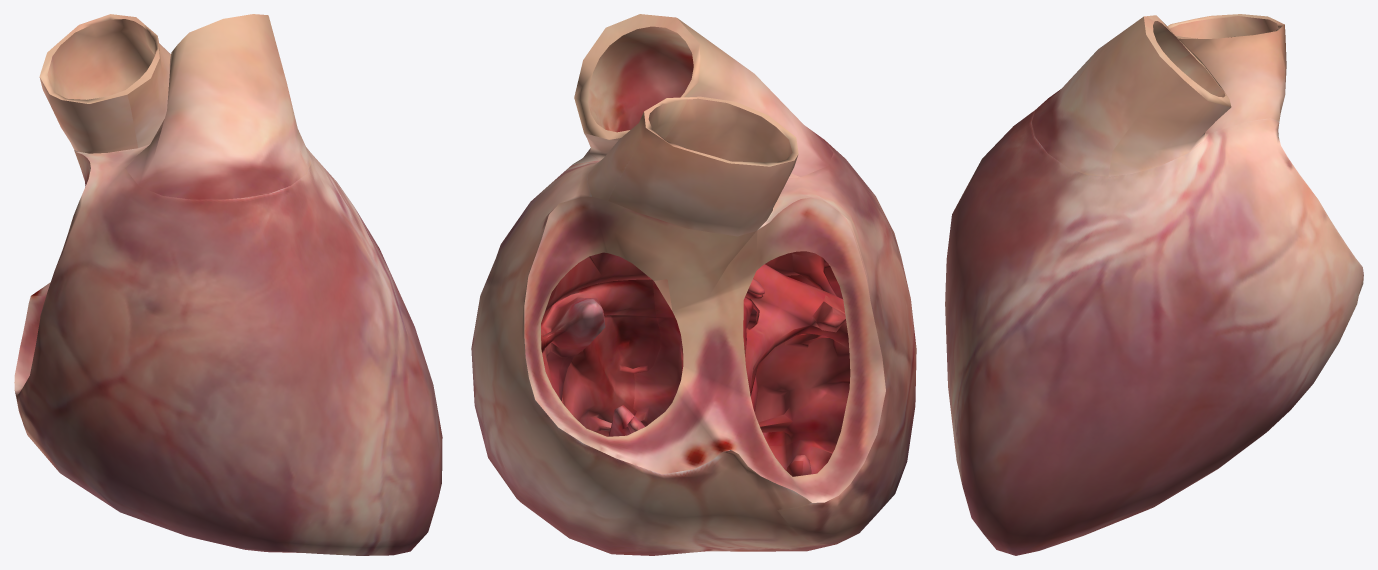
Rendered from 3.1 Heart.glb.
3 views of the same model, side by side, from view 1: azimuth 30°, elevation 25°; view 2: azimuth 150°, elevation 25°; view 3: azimuth 270°, elevation 25° (orthographic). The views are drawn at different scales.
Visible parts, largest first — view 1: Ventricles.001; view 2: Ventricles.001; view 3: Ventricles.001.
Boxes of the visible parts, x1,y1,x2,y2 form: Ventricles.001: (14,14,442,555); Ventricles.001: (471,14,916,555); Ventricles.001: (945,14,1363,555).
Bounding box in the file's own units: 0.0806 × 0.1135 × 0.0889.
1 material, 1 textured.
